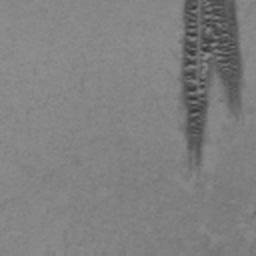Oxide scale of plate system: (175, 0, 248, 172)
